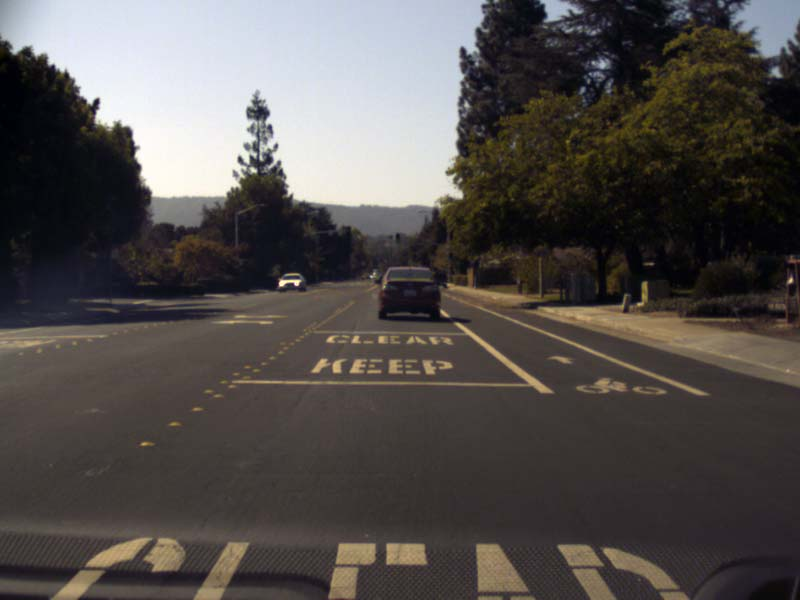Green: (395, 233, 399, 242)
